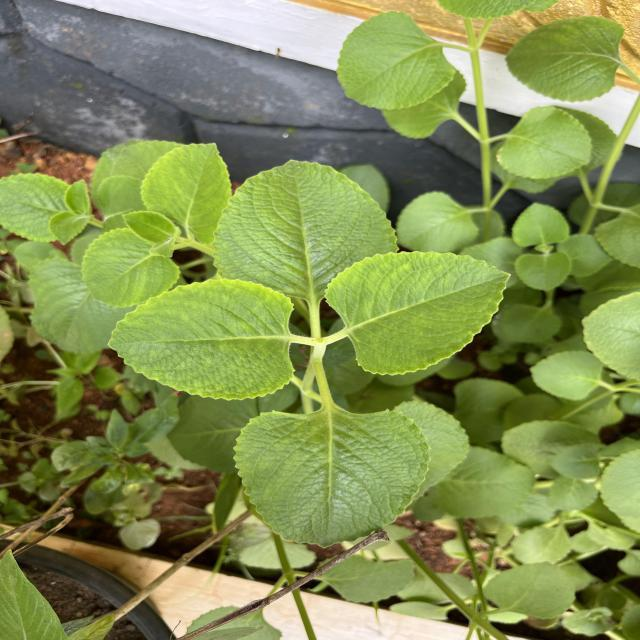Plectranthus barbatus: (232, 405, 431, 549), (324, 250, 514, 377), (106, 277, 298, 402), (210, 158, 402, 280), (334, 10, 458, 111), (504, 15, 626, 105), (140, 142, 233, 246), (80, 226, 183, 310), (495, 104, 593, 180), (0, 170, 79, 244), (396, 189, 479, 252), (511, 201, 572, 248), (514, 252, 573, 292)
